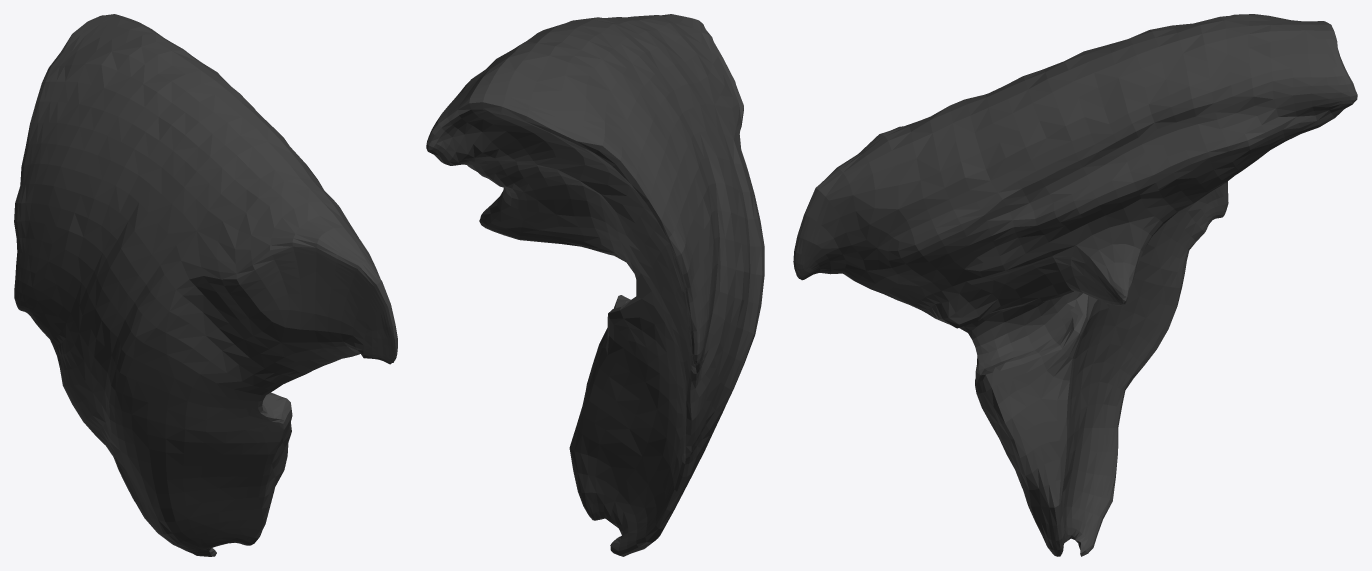
File: R_lung_caudal_lobe_LOW.glb
3 views of the same model, side by side, from view 1: azimuth 30°, elevation 25°; view 2: azimuth 150°, elevation 25°; view 3: azimuth 270°, elevation 25° (orthographic). The views are drawn at different scales.
Visible parts, largest first — view 1: R_lung_caudal_lobe_LOW; view 2: R_lung_caudal_lobe_LOW; view 3: R_lung_caudal_lobe_LOW.
Part boxes in pixels (left/top/right/bottom): R_lung_caudal_lobe_LOW: left=14, top=14, right=397, bottom=556; R_lung_caudal_lobe_LOW: left=426, top=14, right=764, bottom=556; R_lung_caudal_lobe_LOW: left=793, top=14, right=1357, bottom=556.
Size of the model in its own units: 0.0077 by 0.015 by 0.0144.
Materials: 1 (1 with a texture image).
